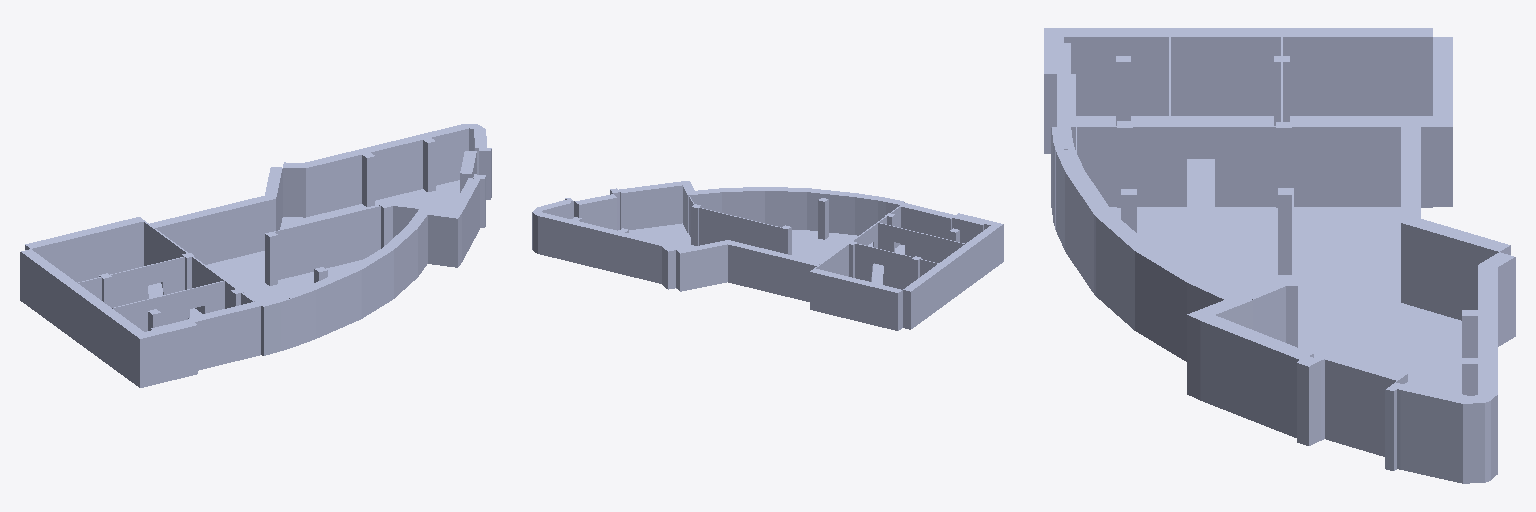
robot.urdf — u005-v2:
<?xml version="1.0" encoding="utf-8"?>
<!-- This URDF was automatically created by SolidWorks to URDF Exporter! Originally created by [author] ([email redacted]) 
     Commit Version: 1.6.0-1-g15f4949  Build Version: 1.6.7594.29634
     For more information, please see http://wiki.ros.org/sw_urdf_exporter -->
<robot
  name="u005-v2">
  <link
    name="base_link">
    <inertial>
      <origin
        xyz="22.2195995665307 14.0176951278951 2.39158004371924"
        rpy="0 0 0" />
      <mass
        value="867740.095762179" />
      <inertia
        ixx="20123458.9700584"
        ixy="-6880381.86529837"
        ixz="221410.597019797"
        iyy="46295466.836472"
        iyz="85723.6495415434"
        izz="62633358.9568499" />
    </inertial>
    <visual>
      <origin
        xyz="0 0 0"
        rpy="0 0 0" />
      <geometry>
        <mesh
          filename="package://u005-v2/meshes/base_link.STL" />
      </geometry>
      <material
        name="">
        <color
          rgba="0.792156862745098 0.819607843137255 0.933333333333333 1" />
      </material>
    </visual>
    <collision>
      <origin
        xyz="0 0 0"
        rpy="0 0 0" />
      <geometry>
        <mesh
          filename="package://u005-v2/meshes/base_link.STL" />
      </geometry>
    </collision>
  </link>
</robot>

--- What the picture shows (computed from the rendered views, not written in the file) ---
The picture shows the robot from 3 angles, left to right: view 1: azimuth 30°, elevation 25°; view 2: azimuth 150°, elevation 25°; view 3: azimuth 270°, elevation 25°; orthographic projection.
Robot: u005-v2 — 1 links, 0 joints (none); root link base_link; default pose: all joints at 0.
Visible links, largest first — view 1: base_link; view 2: base_link; view 3: base_link.
Link boxes in pixels (x1,y1,x2,y2): base_link: (20, 124, 491, 387); base_link: (532, 181, 1003, 330); base_link: (1044, 28, 1515, 483).
Size in the robot's own frame: 50.46 by 26.73 by 5.05 metres.
Meshes: 1 distinct files referenced, 1 mesh visuals loaded (1 binary STL).